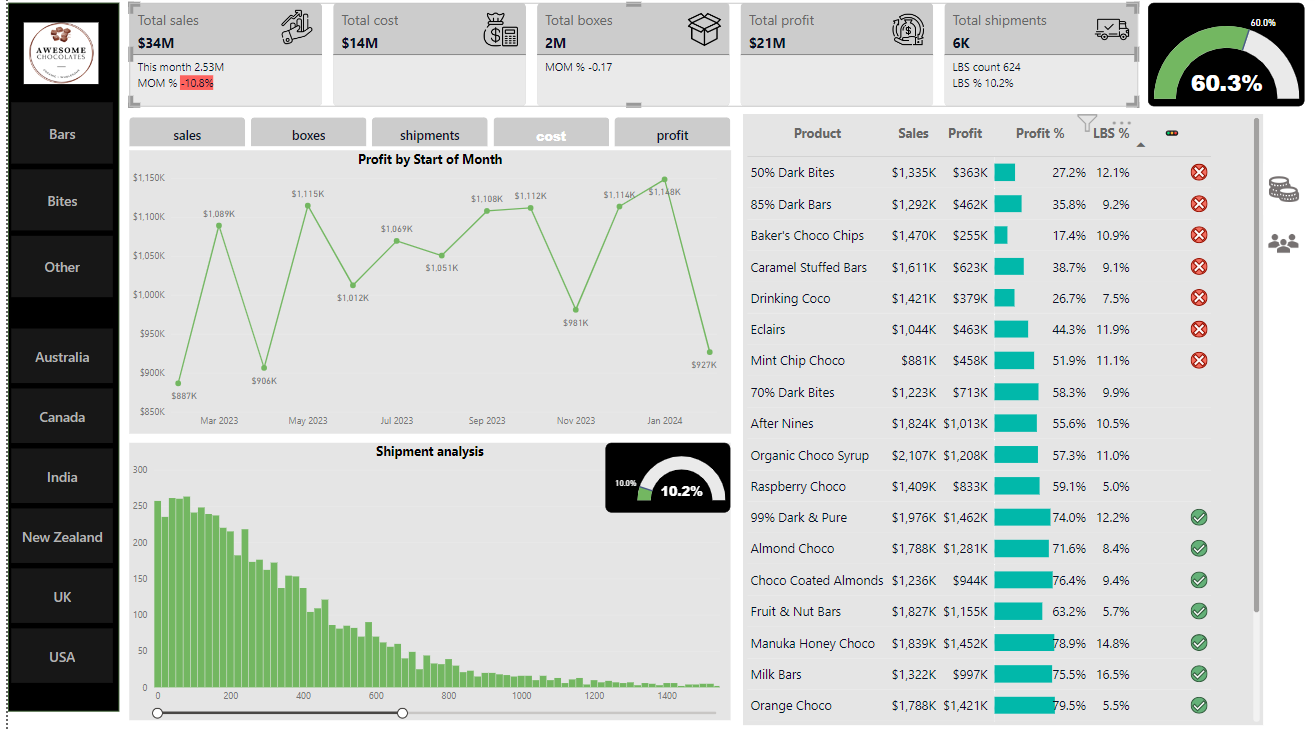

The page's visual inventory and layout, read from the dashboard file:
{"tool":"powerbi","page":{"name":"Page 3","canvas":[1920,1080],"ordinal":2},"visuals":[{"type":"shape","box":[0,12.8,163.2,1040],"z":0},{"type":"cardVisual","fields":{"Data":["Measures (2).Total sales","Measures (2).Total cost","Measures (2).Total boxes","Measures (2).Total profit","Measures (2).Total shipments"]},"box":[177.9,12.8,1480.2,152],"z":1000},{"type":"gauge","fields":{"Y":["Measures (2).Profit %"]},"box":[1672.8,12.8,229.3,152.2],"z":2000},{"type":"lineChart","title":" Profit by Start of Month","fields":{"Y":["Measures (2).Total cost"],"Category":["calendar.Start of Month"]},"box":[177.9,229.3,883,416],"z":3000},{"type":"advancedSlicerVisual","fields":{"Values":["Measure selector.Measure selector"]},"box":[177.9,176.1,882.3,53.2],"z":4000},{"type":"clusteredColumnChart","title":"Shipment analysis","fields":{"Category":["shipments.Boxes (bins)"],"Y":["Measures (2).Total shipments"]},"box":[177.9,658.5,882.3,407.2],"z":5000},{"type":"gauge","fields":{"Y":["Measures (2).LBS %"]},"box":[876.8,658.5,183.4,102.7],"z":6000},{"type":"tableEx","title":"product table","fields":{"Values":["shipments.Product","Measures (2).Total sales","Measures (2).Total profit","Measures (2).Profit %","Measures (2).LBS %","Measures (2).Profit target indicator"]},"box":[1078.5,176.1,763,896.9],"z":8000},{"type":"image","title":"products","box":[1841.6,247.6,60.5,77],"z":9000},{"type":"image","title":"people","box":[1841.6,324.7,60.5,82.5],"z":10000},{"type":"advancedSlicerVisual","fields":{"Values":["products.Category"]},"box":[0,154.1,159.6,299],"z":11000},{"type":"advancedSlicerVisual","fields":{"Values":["locations.Geo"]},"box":[0,486.1,159.6,533.8],"z":12000},{"type":"image","box":[18.3,20.2,119.2,133.9],"z":12001}]}

Visuals, with their boxes in screenshot pixels (x1, y1, x2, y2), scaled from the page's 1920x1080 canvas onto the 1315x730 screenshot:
shape: 0,9,112,712
cardVisual - Measures (2).Total sales x Measures (2).Total cost: 122,9,1136,111
gauge - Measures (2).Profit %: 1146,9,1303,112
" Profit by Start of Month" lineChart: 122,155,727,436
advancedSlicerVisual - Measure selector.Measure selector: 122,119,726,155
"Shipment analysis" clusteredColumnChart: 122,445,726,720
gauge - Measures (2).LBS %: 601,445,726,515
"product table" tableEx: 739,119,1261,725
"products" image: 1261,167,1303,219
"people" image: 1261,219,1303,275
advancedSlicerVisual - products.Category: 0,104,109,306
advancedSlicerVisual - locations.Geo: 0,329,109,689
image: 13,14,94,104
